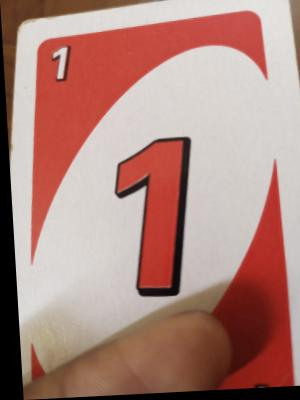num_1: (42, 42, 93, 92)
